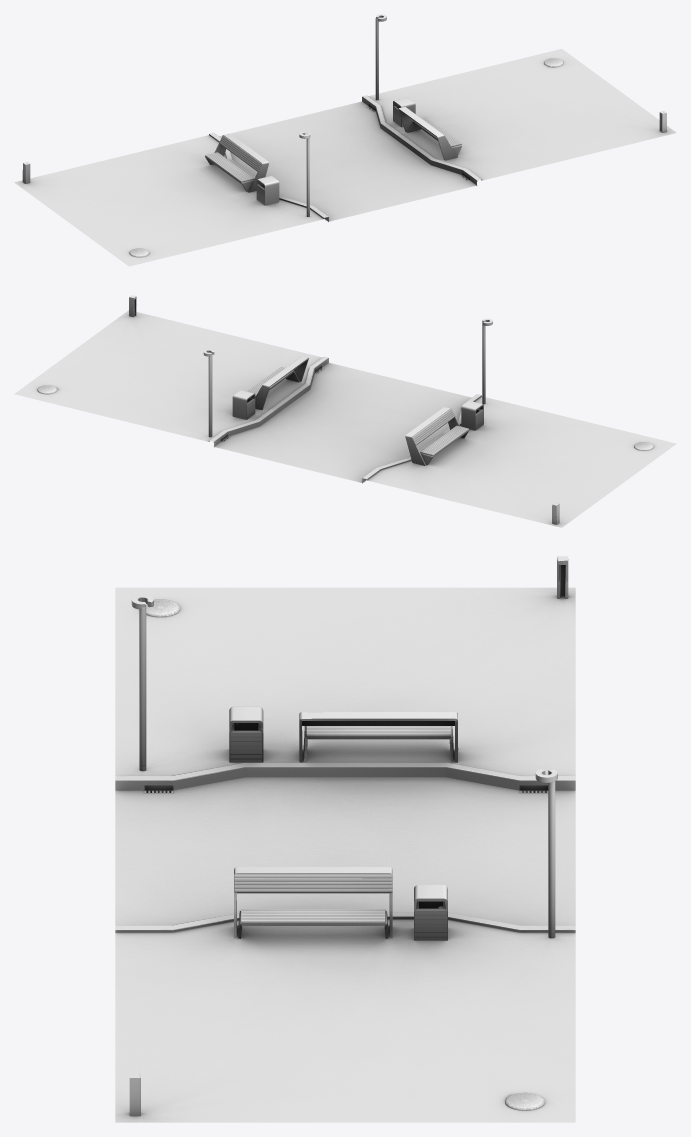
Rendered from street_8.glb.
3 renders of one model, top to bottom at view 1: azimuth 30°, elevation 25°; view 2: azimuth 150°, elevation 25°; view 3: azimuth 270°, elevation 25°, orthographic. The views are drawn at different scales.
Visible parts, largest first — view 1: street_8; view 2: street_8; view 3: street_8.
Boxes of the visible parts, x1=… form: street_8: x1=14, y1=14, x2=676, y2=266; street_8: x1=14, y1=295, x2=676, y2=527; street_8: x1=115, y1=556, x2=575, y2=1122.
Size of the model in its own units: 22 by 3.37 by 8.
Materials: 1 (1 with a texture image).
